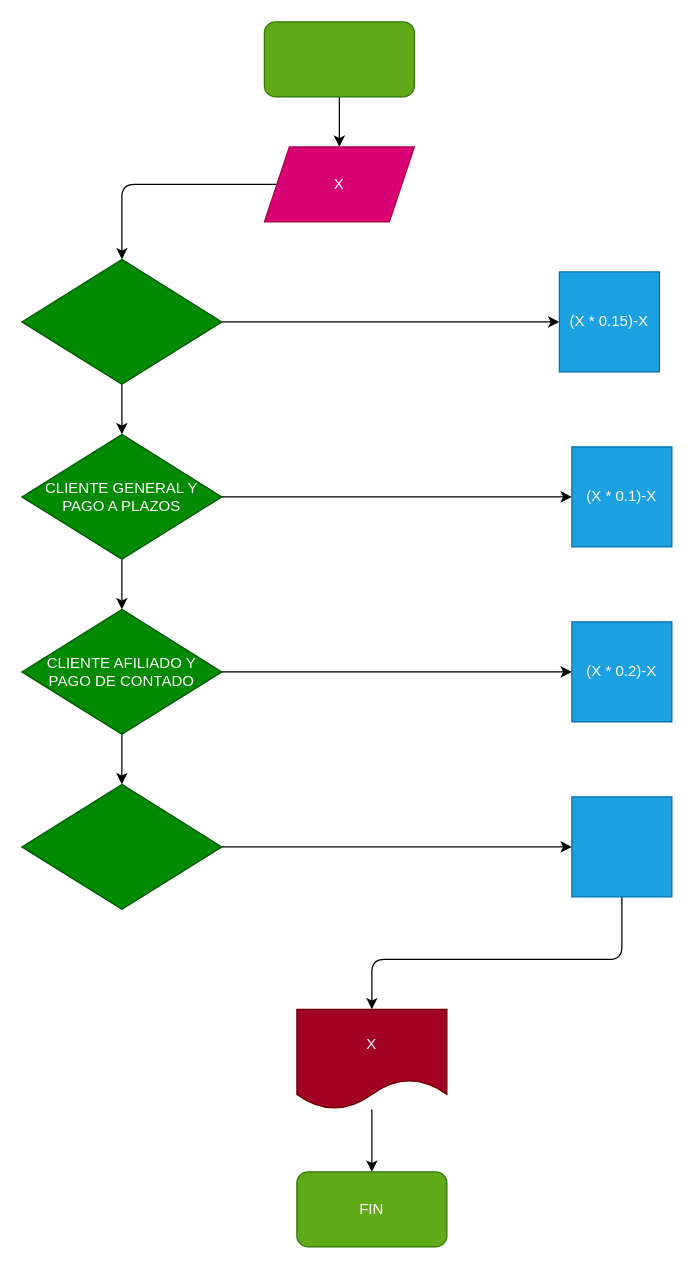
The diagram is 694 pixels wide and 1269 high, and some of its shapes have lost their labels. Here are the shapes that lost their labels. From the top down, the centre of each, then its label:
At point (338, 59): "INICIO".
At point (121, 321): "CLIENTE GENERAL Y PAGO DE CONTADO".
At point (121, 846): "CLIENTE AFILIADO Y PAGO A PLAZOS".
At point (621, 846): "(X * 0.05)-X".
